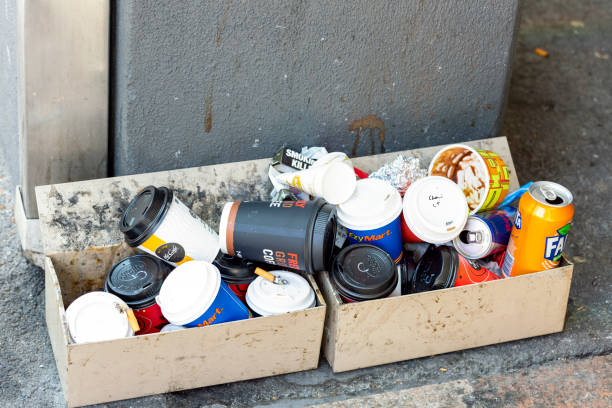General waste: (254, 266, 291, 289)
metal: (508, 177, 566, 283)
paper: (221, 200, 334, 271), (124, 189, 220, 267), (160, 262, 248, 323)
